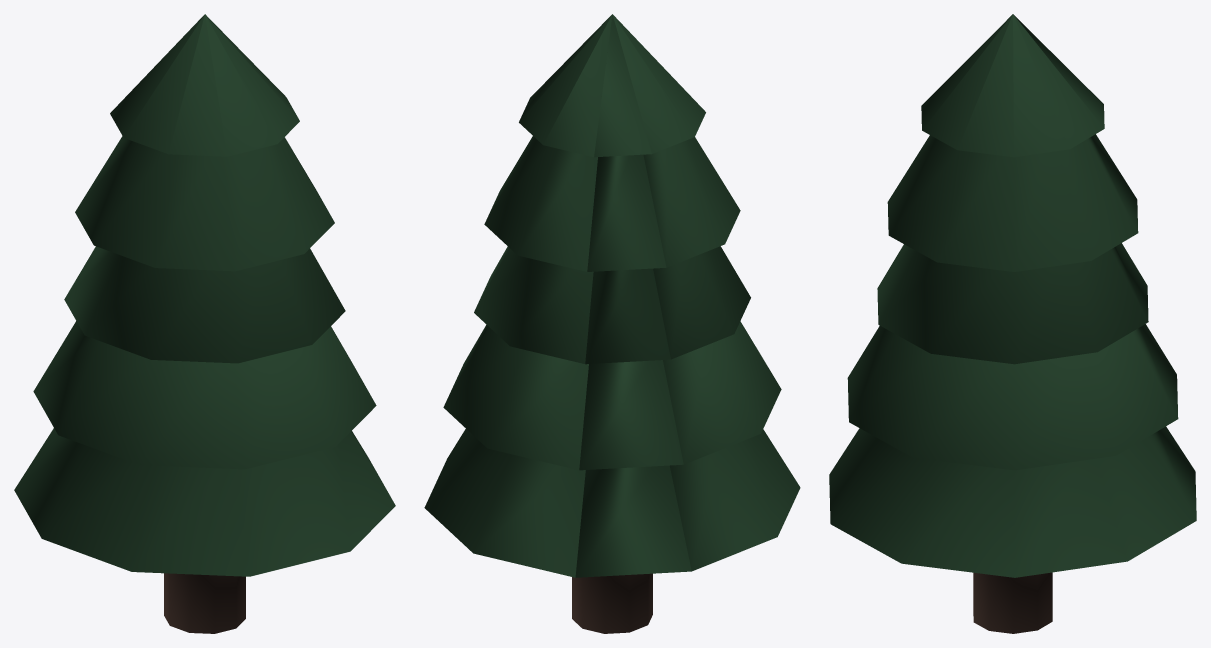
File: LowPoly_pinte.fbx
3 renders of one model, left to right at view 1: azimuth 30°, elevation 25°; view 2: azimuth 150°, elevation 25°; view 3: azimuth 270°, elevation 25°, orthographic.
Parts seen in each view (by area): view 1: pCylinder1; view 2: pCylinder1; view 3: pCylinder1.
Part boxes in pixels (box(x1,y1,x2,y2)): pCylinder1: box(14, 14, 395, 633); pCylinder1: box(424, 14, 800, 633); pCylinder1: box(829, 14, 1196, 633).
Size of the model in its own units: 3.39 by 5.95 by 3.29.
Materials: 1 (1 with a texture image).
